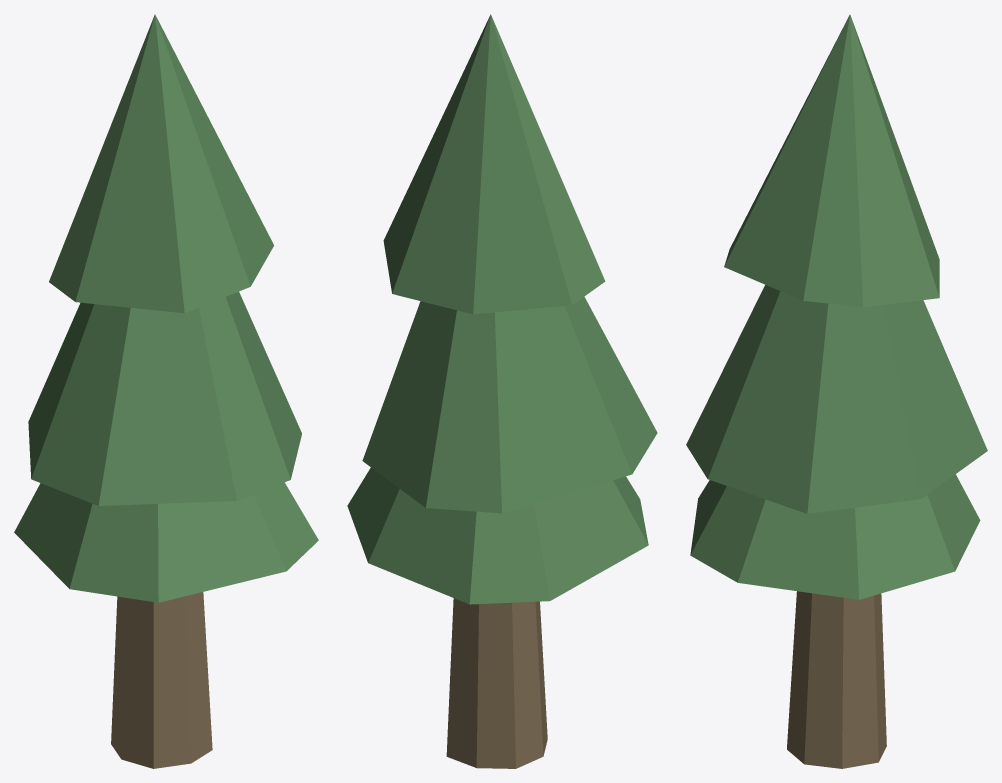
File: Tree2.017.fbx
The picture shows the model from 3 angles, left to right: view 1: azimuth 30°, elevation 25°; view 2: azimuth 150°, elevation 25°; view 3: azimuth 270°, elevation 25°; orthographic projection.
Parts seen in each view (by area): view 1: Tree2.017; view 2: Tree2.017; view 3: Tree2.017.
Part boxes in pixels (x1=…): Tree2.017: x1=14, y1=14, x2=318, y2=768; Tree2.017: x1=347, y1=14, x2=657, y2=768; Tree2.017: x1=686, y1=14, x2=987, y2=768.
Bounding box in the file's own units: 143 × 370 × 138.
